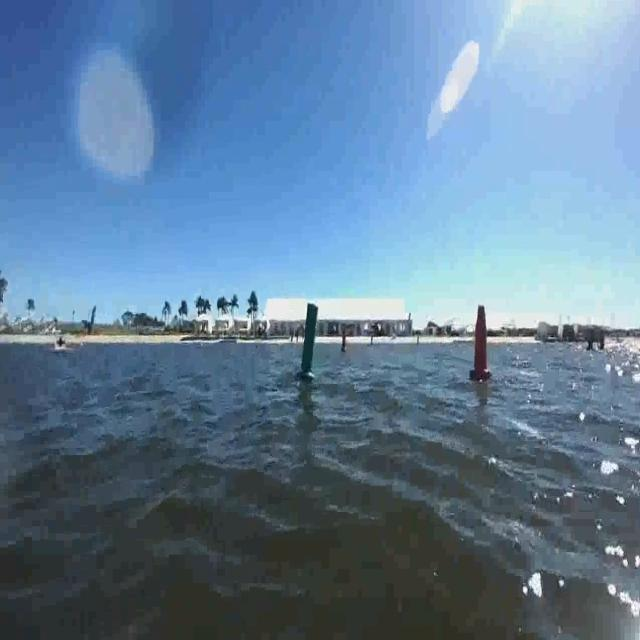green-column-buoy: (298, 302, 320, 384)
red-column-buoy: (471, 303, 493, 382)
